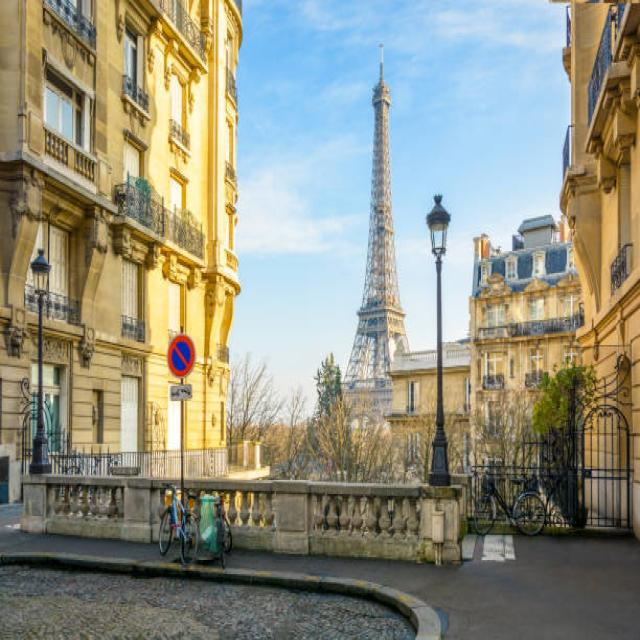forb_stopping: (166, 333, 195, 377)
